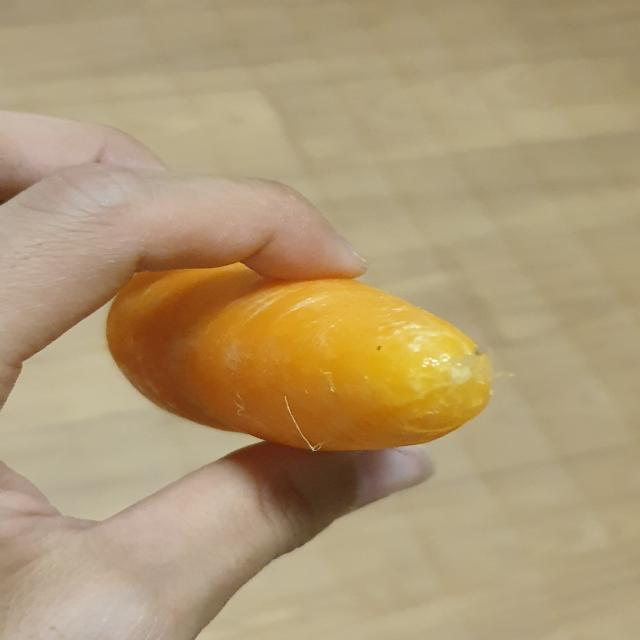carrot: (75, 234, 518, 482)
